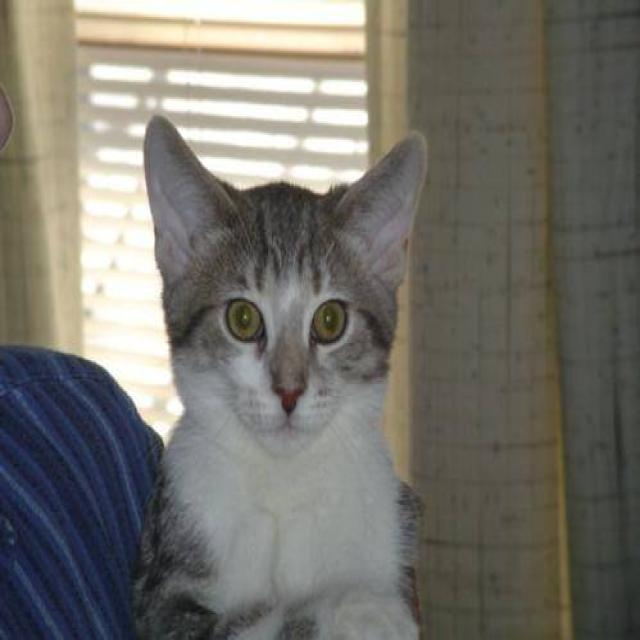Cat: (138, 96, 444, 474)
